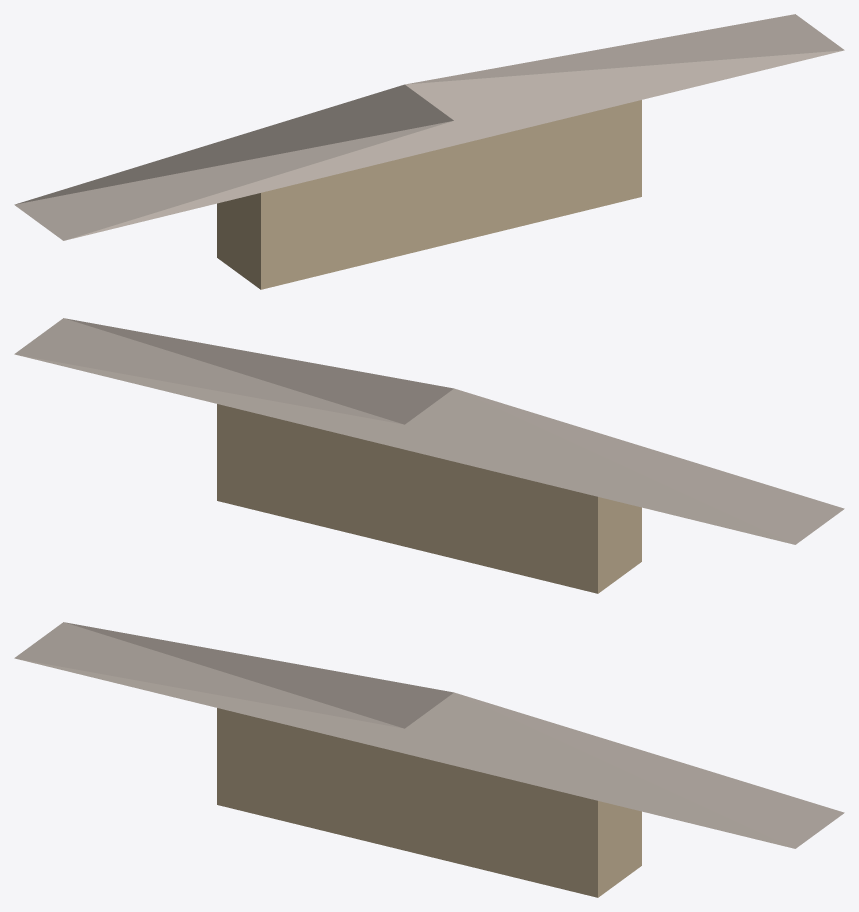
Rendered from lqv_lowpoly_typo_worker.glb.
3 renders of one model, top to bottom at view 1: azimuth 30°, elevation 25°; view 2: azimuth 150°, elevation 25°; view 3: azimuth 330°, elevation 25°, orthographic.
Visible parts, largest first — view 1: Worker_roof, Typo_Worker; view 2: Worker_roof, Typo_Worker; view 3: Worker_roof, Typo_Worker.
Part boxes in pixels (box(x1,y1,x2,y2)): Worker_roof: box(14, 14, 844, 240); Typo_Worker: box(217, 100, 641, 289); Worker_roof: box(14, 318, 844, 544); Typo_Worker: box(217, 404, 641, 593); Worker_roof: box(14, 622, 844, 848); Typo_Worker: box(217, 708, 641, 897).
Bounding box in the file's own units: 16.4 × 2.5 × 1.8.
